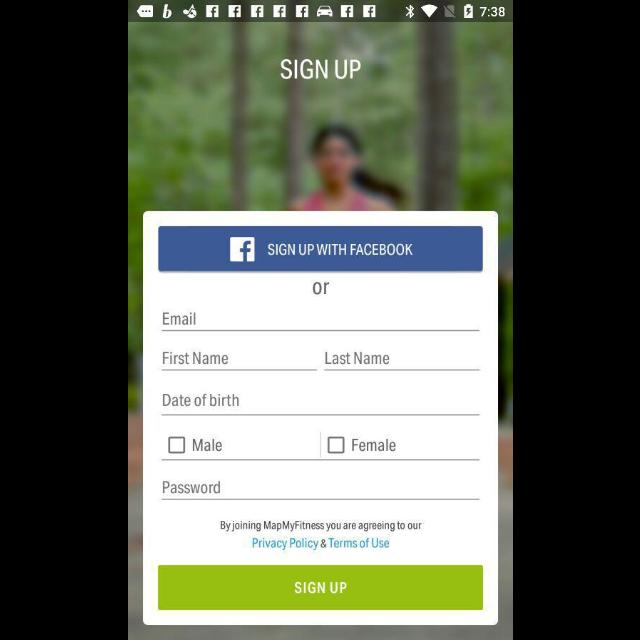backgroundimage: (128, 25, 512, 640)
checkbox: (326, 436, 344, 454), (168, 436, 185, 454)
input: (161, 394, 479, 416), (161, 480, 479, 500), (161, 313, 479, 332), (161, 352, 317, 371), (323, 352, 479, 371)
panel: (143, 211, 497, 627)
text: (220, 520, 422, 550), (279, 59, 361, 81), (162, 394, 238, 406), (162, 352, 228, 364), (325, 352, 389, 364), (162, 482, 220, 494), (351, 440, 395, 452), (192, 438, 222, 452), (162, 314, 195, 326), (312, 281, 328, 295)
textbutton: (158, 226, 482, 272), (158, 566, 482, 610), (252, 538, 318, 550), (326, 537, 388, 549)
uppertaskbar: (128, 1, 512, 23)
